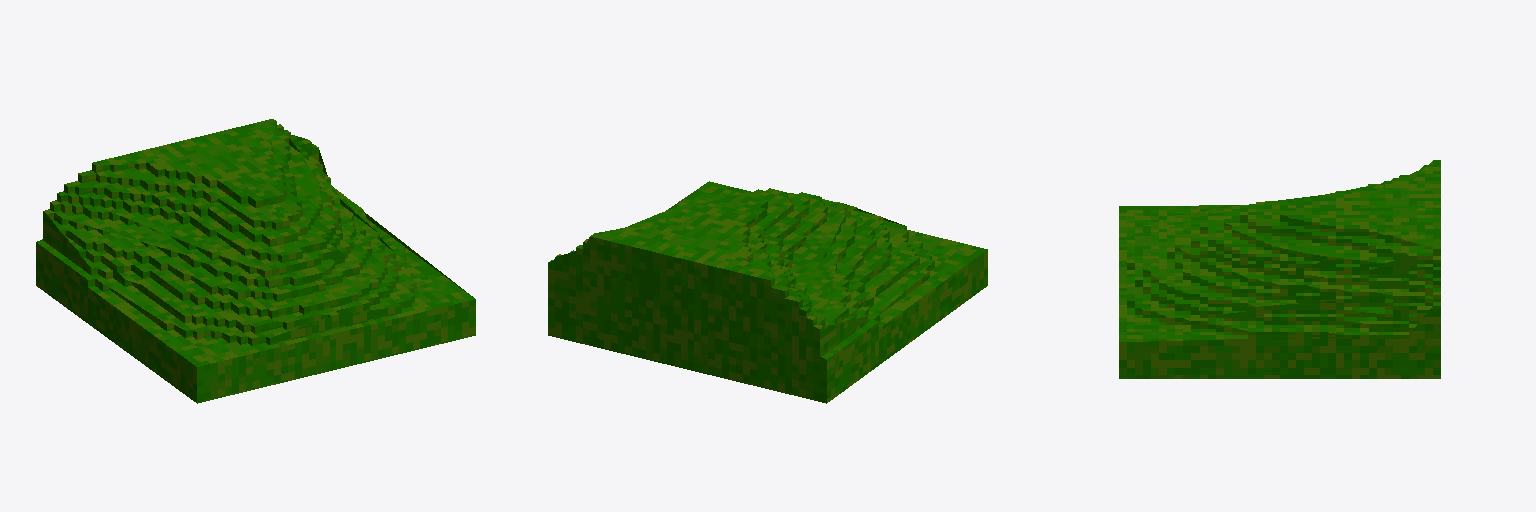
3 renders of one model, left to right at view 1: azimuth 30°, elevation 25°; view 2: azimuth 150°, elevation 25°; view 3: azimuth 270°, elevation 25°, orthographic.
Visible parts, largest first — view 1: Untitled; view 2: Untitled; view 3: Untitled.
Part boxes in pixels (bbox=[...]): Untitled: bbox=[36, 119, 475, 403]; Untitled: bbox=[548, 181, 987, 403]; Untitled: bbox=[1119, 160, 1440, 378].
Bounding box in the file's own units: 4 × 1.5 × 4.
Materials: 1 (1 with a texture image).